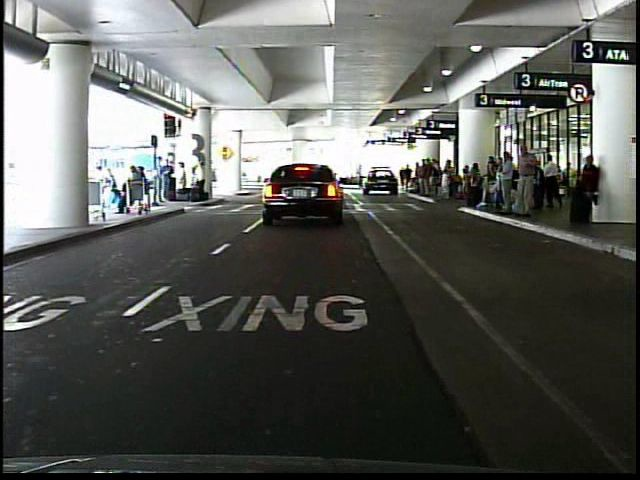person: (512, 138, 540, 224), (569, 150, 599, 228), (540, 153, 564, 212), (496, 150, 516, 217), (99, 157, 119, 214), (162, 155, 177, 203), (193, 158, 207, 201), (177, 161, 191, 202)
